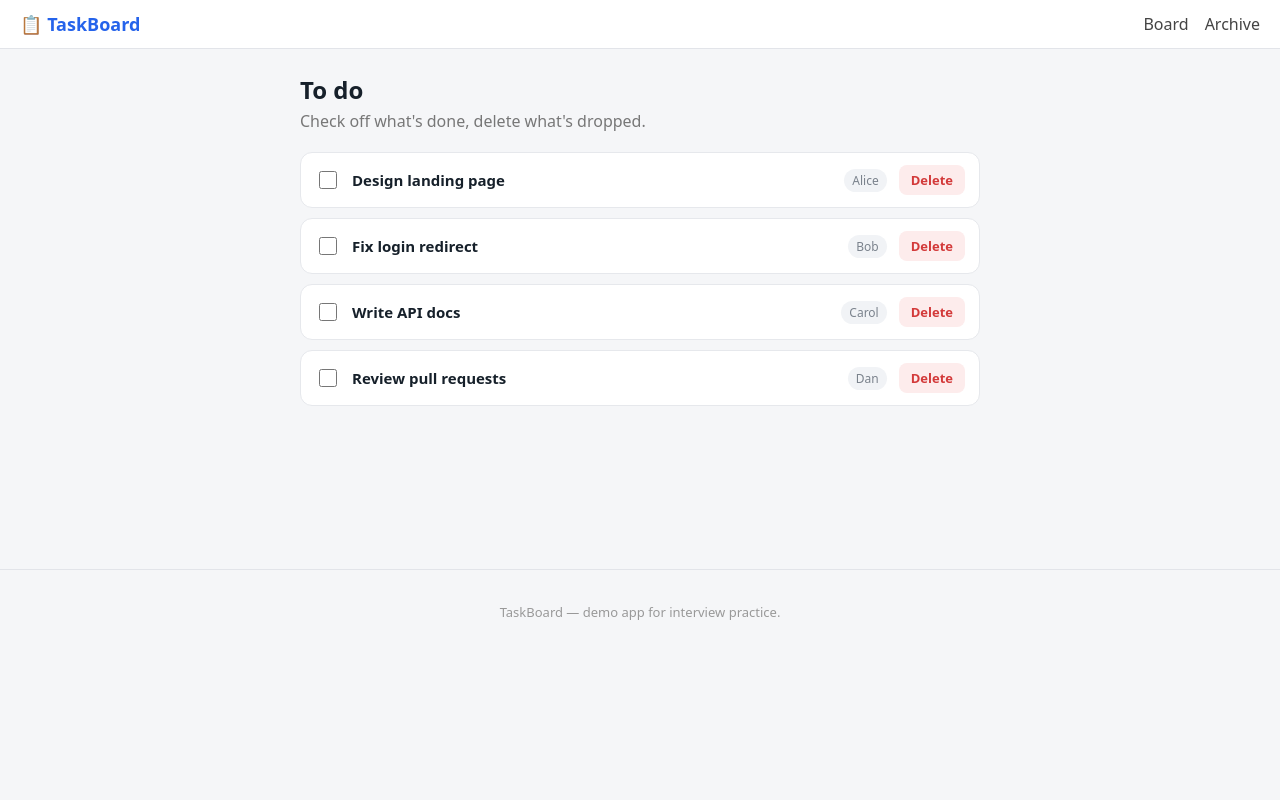
Test case: m06 · TaskBoard — list key identity › deleting a row removes exactly that task from the board
Expected: the list item with test id "row-t2" is shown, [300,218,980,274]
Click the button with test id "remove-t2": (932, 246) [899,231,965,261]
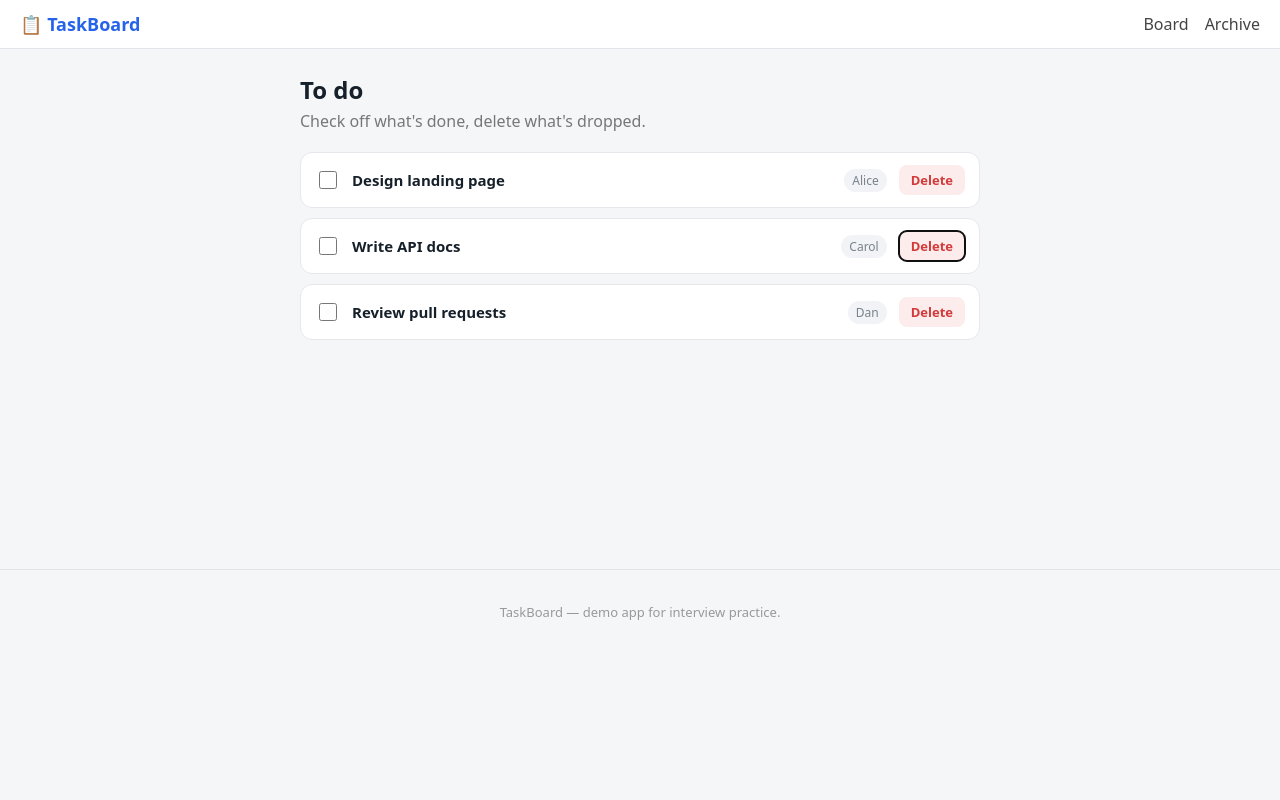
Expected: the list item with test id "row-t1" is shown, [300,152,980,208]
Expected: the list item with test id "row-t3" is shown, [300,218,980,274]
Expected: the list item with test id "row-t4" is shown, [300,284,980,340]
